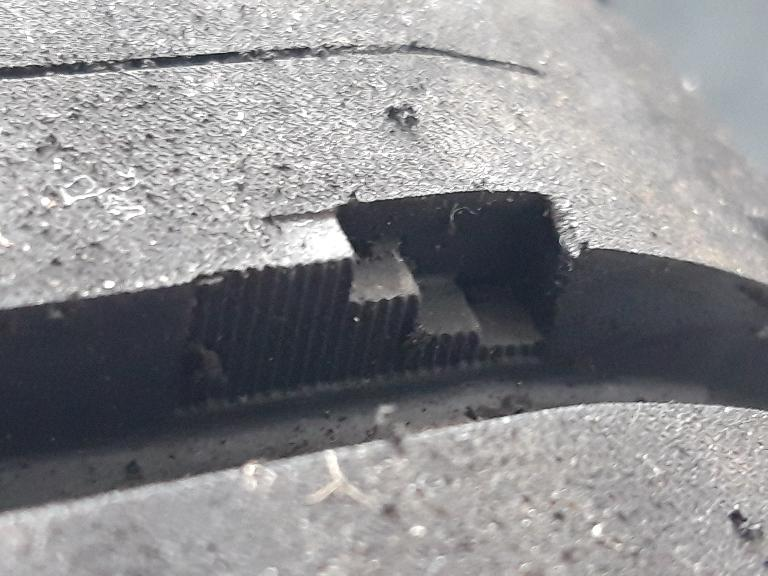temoin:75: (237, 169, 603, 426)
